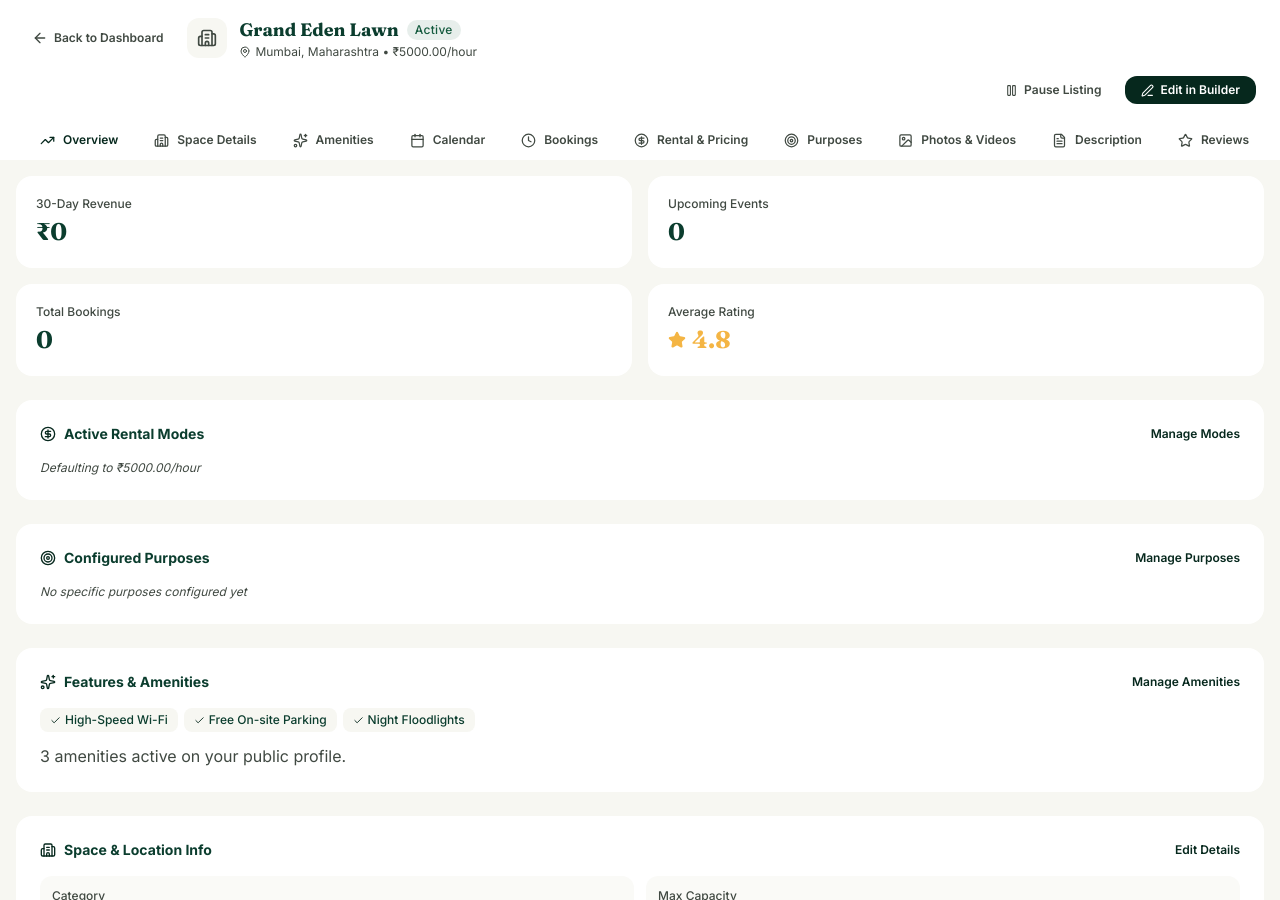
it: VenueWorkspace - Space Details and Amenities Editing › clicking Edit Details from Overview jumps directly to Space Details tab
The width and height of the screenshot is (1280, 900).
Click the button "Edit Details": click(1208, 850) [1175,842,1240,858]
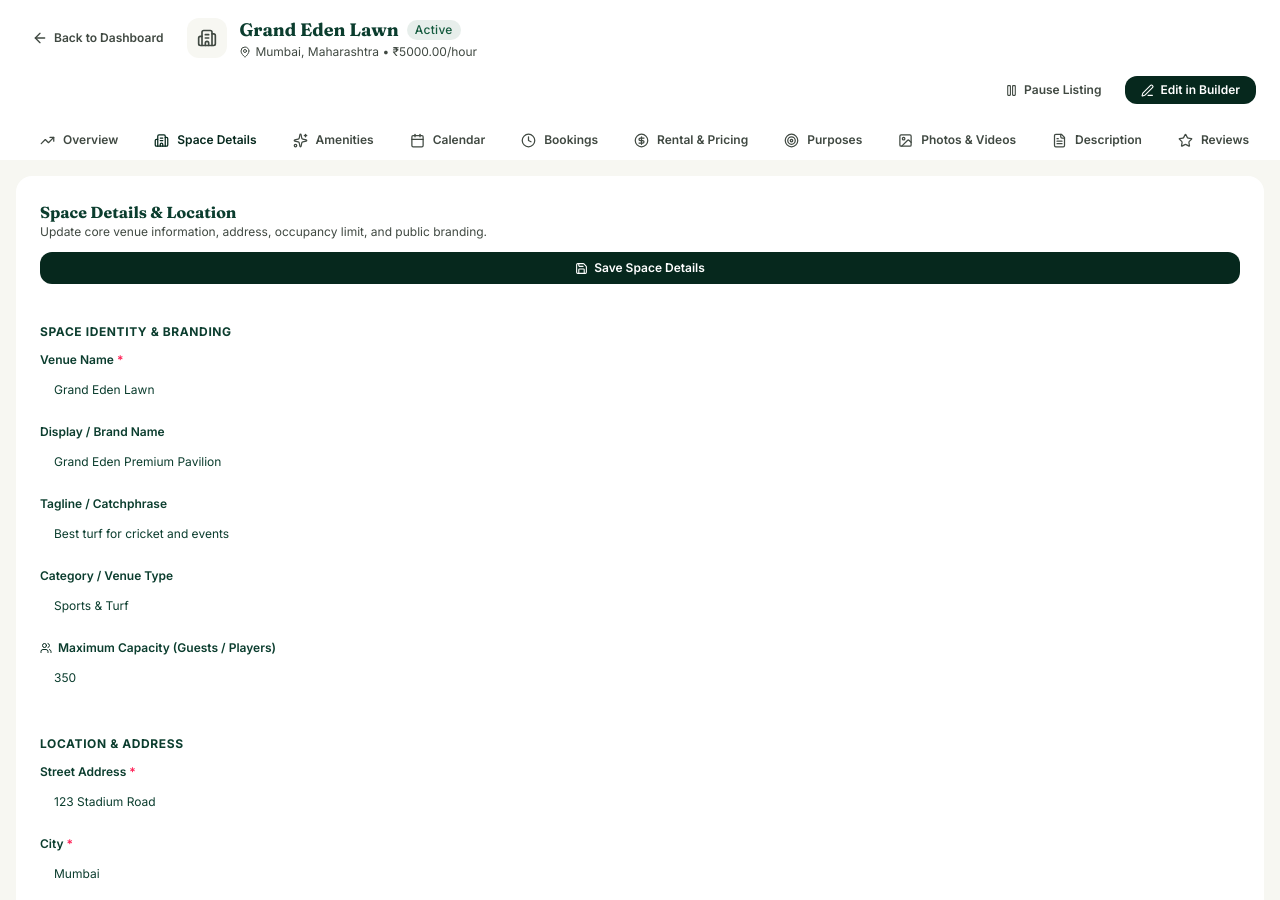
Now the heading "Space Details & Location" is shown, box [40,202,236,222]
Now the field with placeholder "e.g. Grand Eden Lawn" below "Venue Name" is shown, box [40,372,1240,408]
